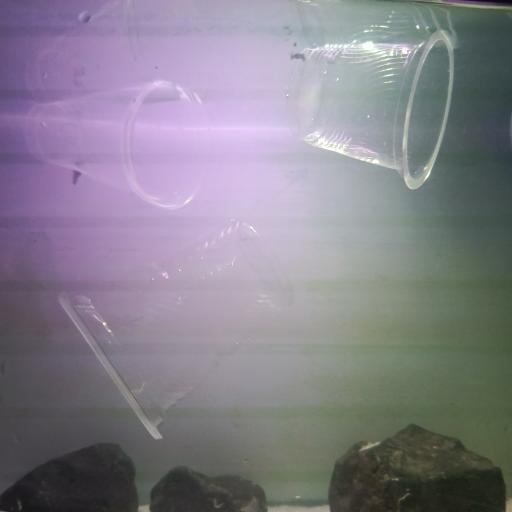plastic_cup: (58, 217, 293, 440), (285, 28, 455, 190), (22, 79, 210, 211)
